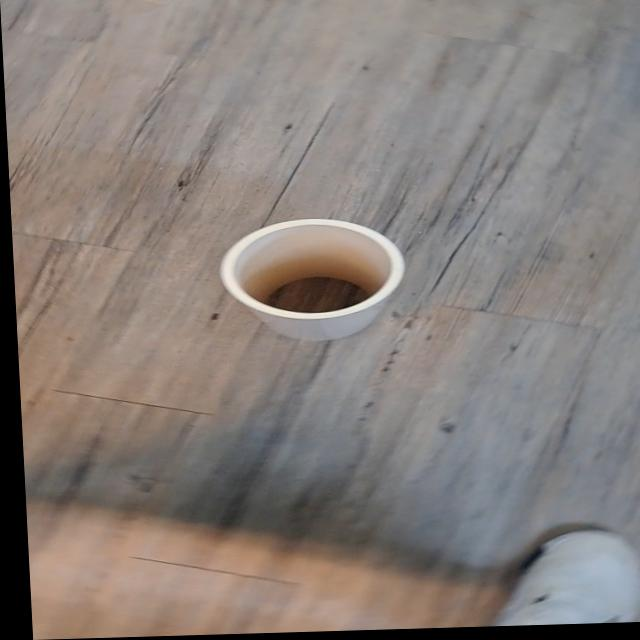CORAL: (192, 197, 443, 363)
